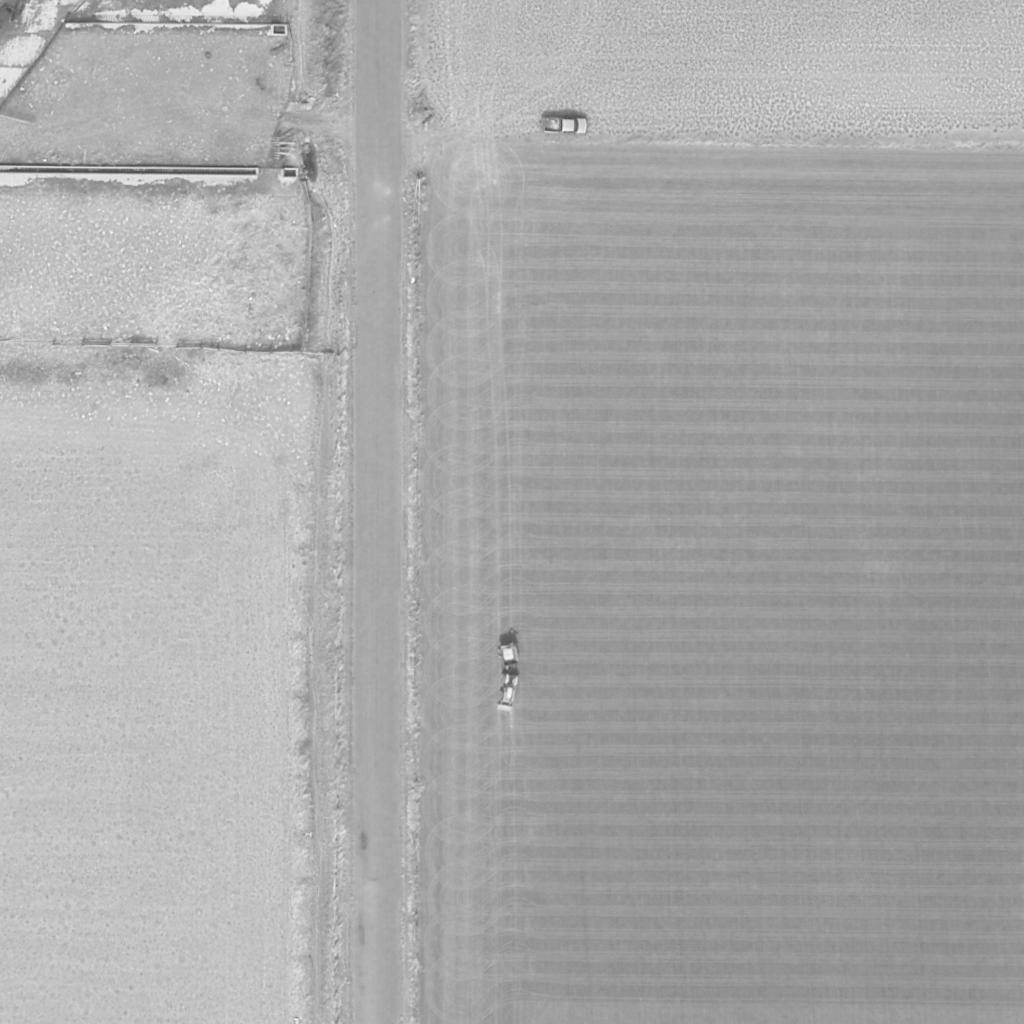vehicle: (492, 673, 522, 715), (542, 117, 590, 135)
